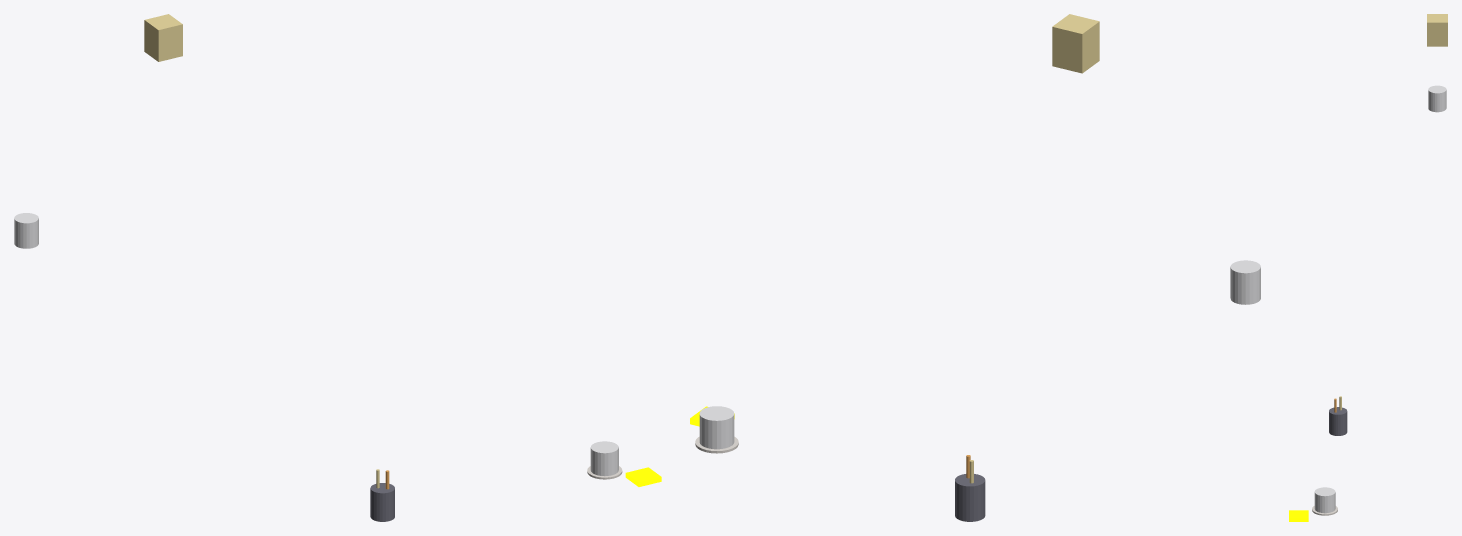
Rendered from group-b-props.glb.
3 views of the same model, side by side, from view 1: azimuth 30°, elevation 25°; view 2: azimuth 150°, elevation 25°; view 3: azimuth 270°, elevation 25° (orthographic). The views are drawn at different scales.
Parts seen in each view (by area): view 1: StaticBatch__Optional_Detail_Root__Door_HardwareBrass, opt_coffee_mug, opt_pen_holder, opt_mini_vase; view 2: StaticBatch__Optional_Detail_Root__Door_HardwareBrass, opt_coffee_mug, opt_pen_holder, opt_mini_vase; view 3: StaticBatch__Optional_Detail_Root__Door_HardwareBrass, opt_coffee_mug, opt_pen_holder, opt_mini_vase, opt_sticky_notes.
Part boxes in pixels (<box>): StaticBatch__Optional_Detail_Root__Door_HardwareBrass: <box>144,14,379,488</box>; opt_coffee_mug: <box>590,441,618,476</box>; opt_pen_holder: <box>370,483,394,521</box>; opt_mini_vase: <box>14,213,38,248</box>; StaticBatch__Optional_Detail_Root__Door_HardwareBrass: <box>969,14,1099,483</box>; opt_coffee_mug: <box>699,406,734,449</box>; opt_pen_holder: <box>955,474,985,521</box>; opt_mini_vase: <box>1230,260,1260,304</box>; StaticBatch__Optional_Detail_Root__Door_HardwareBrass: <box>1339,14,1447,410</box>; opt_coffee_mug: <box>1314,487,1335,513</box>; opt_pen_holder: <box>1329,407,1347,435</box>; opt_mini_vase: <box>1428,85,1446,112</box>; opt_sticky_notes: <box>1289,510,1308,521</box>.
Bounding box in the file's own units: 1.79 × 1.52 × 0.6075.
